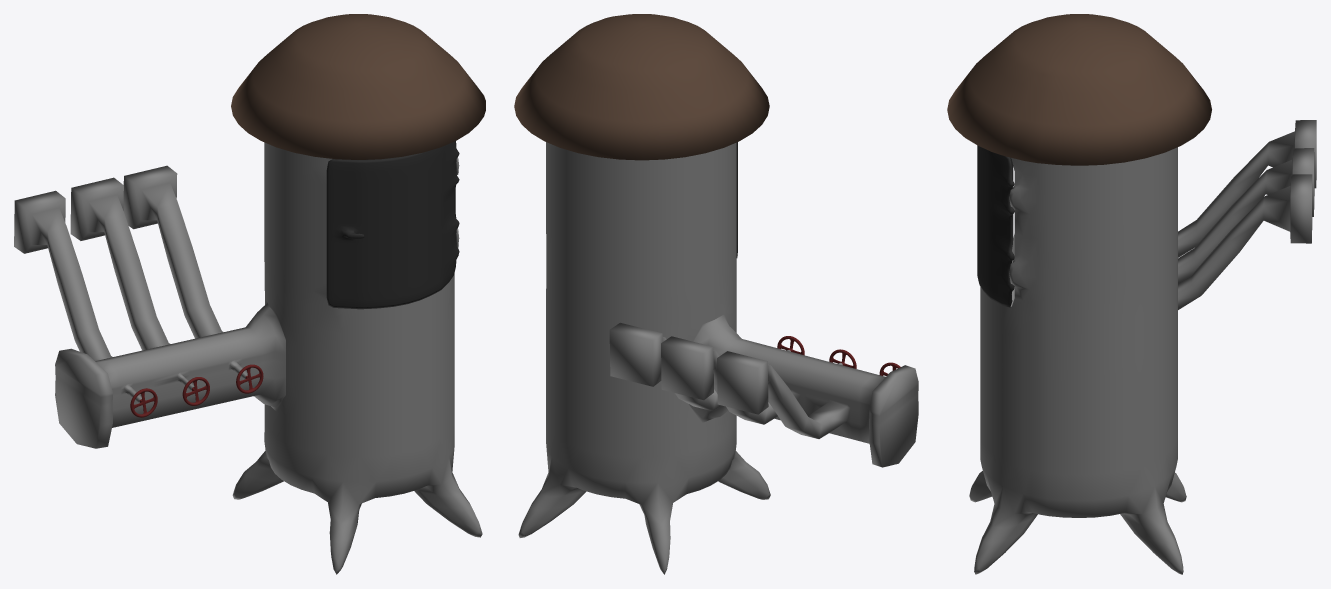
The model's file is Water heater mesh Exp.fbx.
3 renders of one model, left to right at view 1: azimuth 30°, elevation 25°; view 2: azimuth 150°, elevation 25°; view 3: azimuth 270°, elevation 25°, orthographic. The views are drawn at different scales.
Parts seen in each view (by area): view 1: Cylinder001, Plane001; view 2: Cylinder001; view 3: Cylinder001, Plane001.
Part boxes in pixels (<box>): Cylinder001: <box>14,14,485,574</box>; Plane001: <box>326,141,459,309</box>; Cylinder001: <box>514,14,918,574</box>; Cylinder001: <box>947,14,1316,574</box>; Plane001: <box>977,145,1014,307</box>.
Size of the model in its own units: 405 by 503 by 328.
